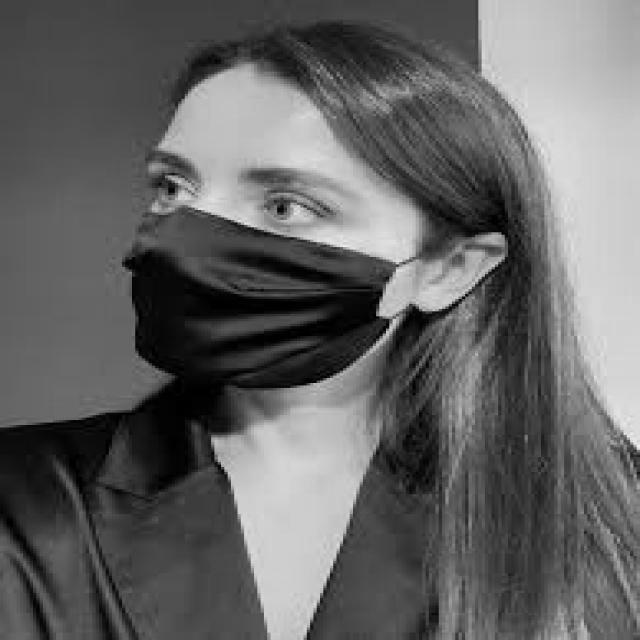fake: (120, 204, 403, 395)
real: (140, 61, 415, 401)
